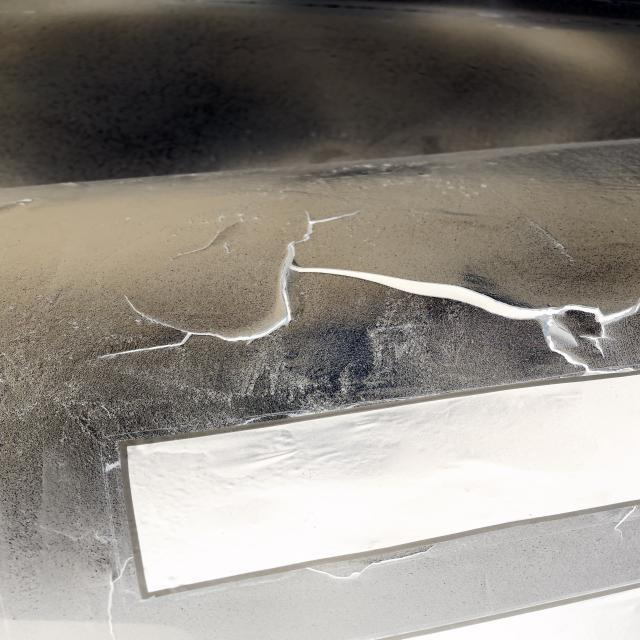crack: (282, 207, 640, 333), (88, 283, 283, 376), (175, 216, 266, 269)
